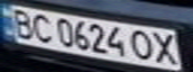0: (51, 16, 75, 47)
2: (87, 20, 109, 55)
4: (106, 25, 130, 57)
6: (69, 19, 90, 52)
B: (3, 6, 39, 39)
C: (27, 11, 57, 44)
O: (127, 28, 157, 62)
X: (148, 29, 181, 65)
